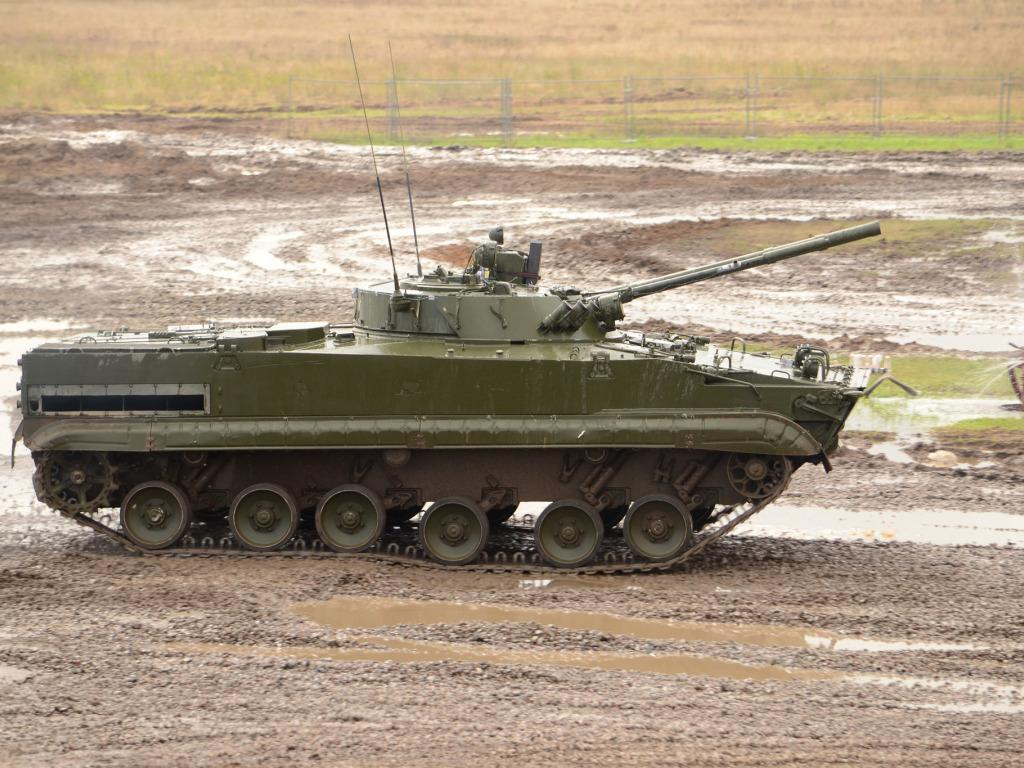tank: (9, 217, 883, 559)
